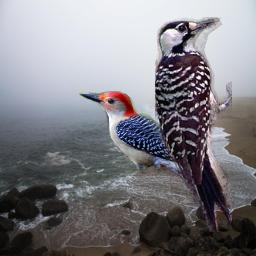Woodpecker: (155, 17, 232, 232), (79, 91, 209, 192)
